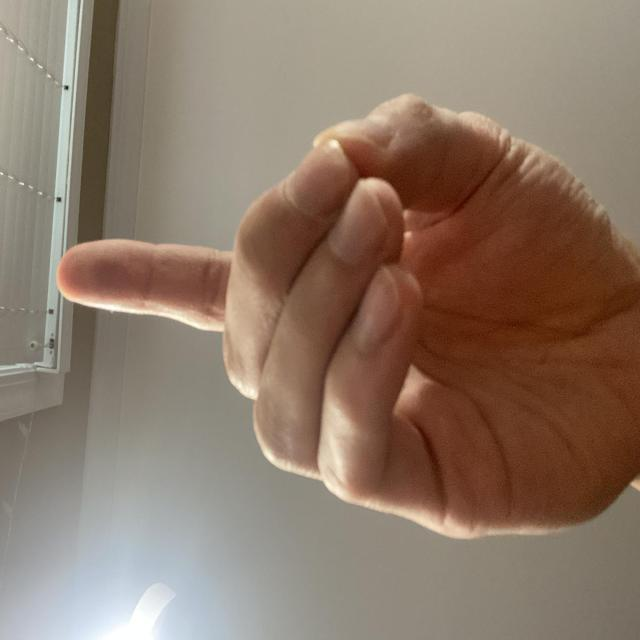D: (65, 66, 418, 640)
